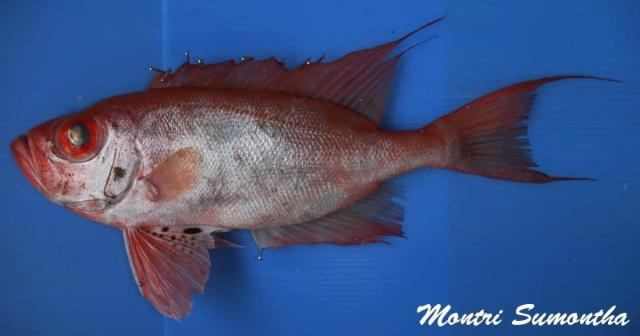Mulut: (4, 110, 52, 194)
Sirip Anal: (254, 174, 410, 252)
Sirip Dada: (144, 142, 210, 206)
Sirip Ekor: (445, 70, 627, 192)
Sirip Perut: (123, 219, 231, 323)
Sirip Punggung: (147, 10, 447, 134)
